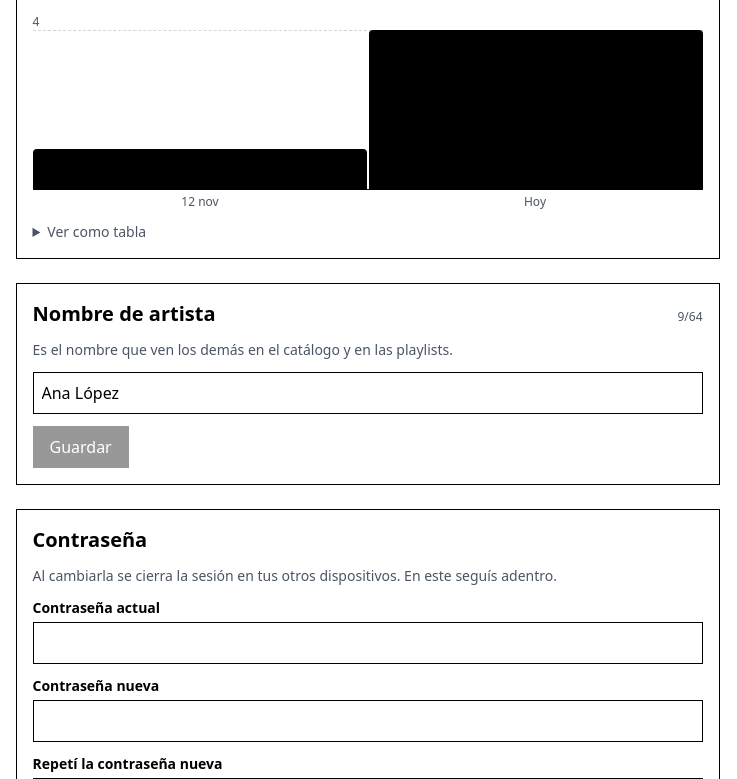
Scenario: perfil › Cancelar vuelve al nombre guardado
(page scrolled)
Check: the button "Cancelar" is not shown
Replace the text in the field labelled "Nombre de artista" with "Otro": {"x": 368, "y": 393} [32,372,702,414]
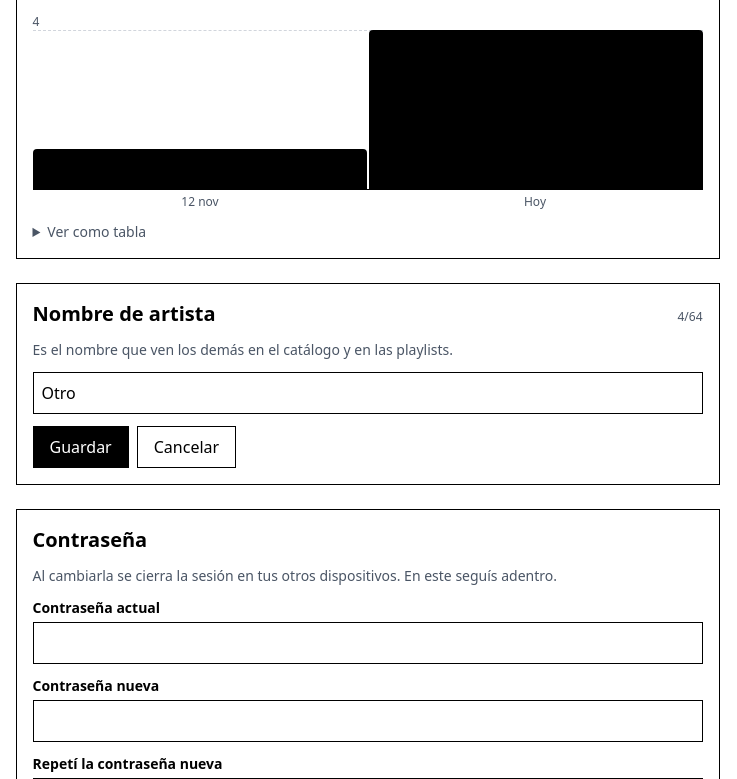
Click the button "Cancelar": {"x": 186, "y": 447} [137,426,236,468]
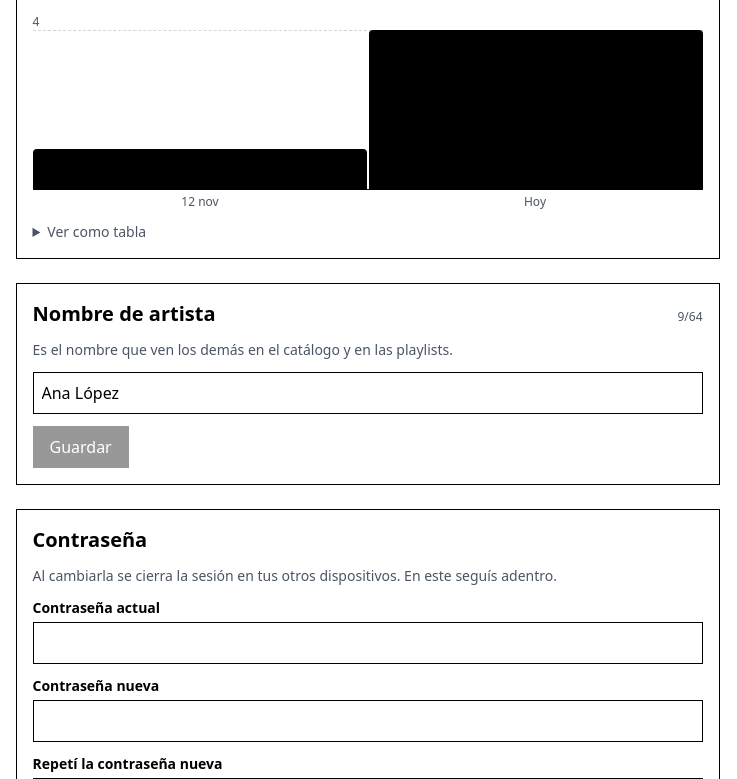
Check: the field labelled "Nombre de artista" holds "Ana López", box [32,372,702,414]
Check: the button "Cancelar" is gone
